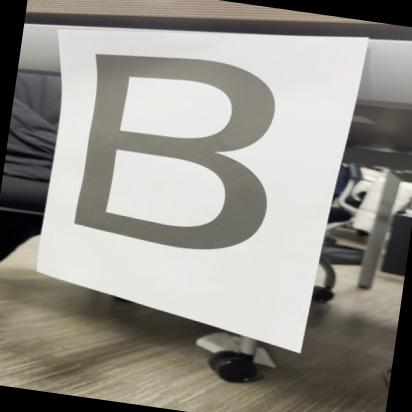seat: (52, 37, 304, 268)
